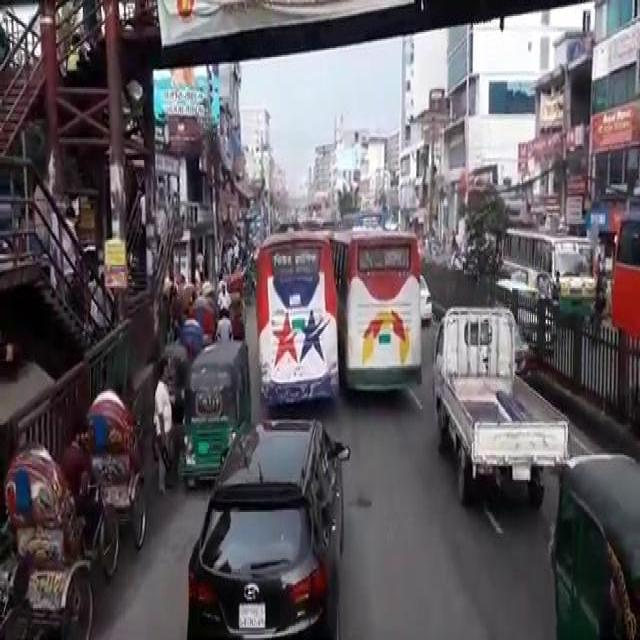11: (432, 302, 570, 491)
13: (3, 440, 121, 637), (88, 386, 146, 549), (188, 290, 216, 332), (179, 313, 203, 352)
17: (548, 449, 638, 635), (178, 335, 252, 479)
5: (185, 411, 347, 638), (499, 276, 555, 346), (420, 278, 430, 319)
Truck: (254, 225, 340, 404), (331, 223, 422, 392), (498, 224, 596, 316), (609, 211, 639, 333)
